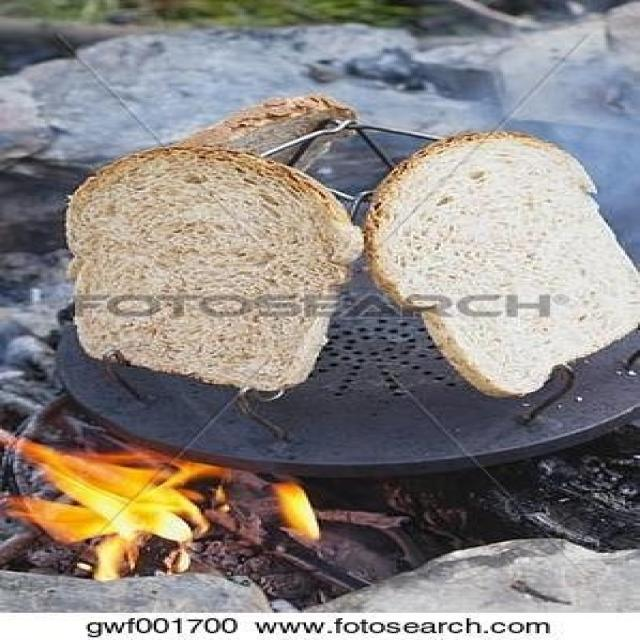Fire: (2, 432, 231, 582), (274, 480, 321, 542)
